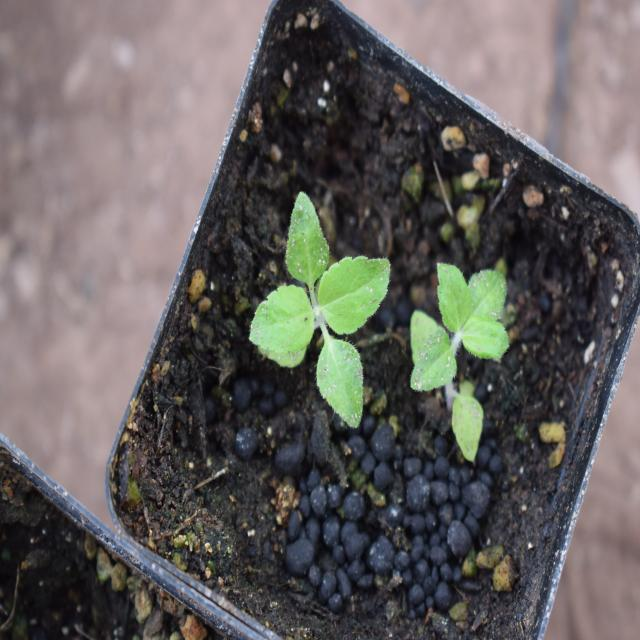billygoat_weed: (243, 198, 390, 440), (400, 236, 525, 459)
